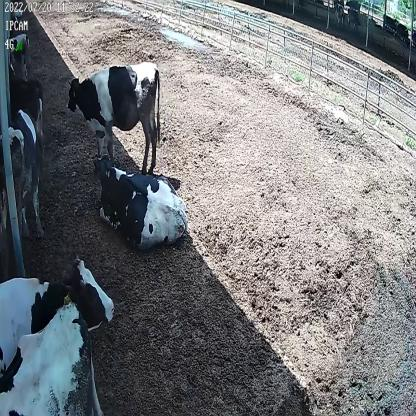cow: (1, 255, 116, 378), (66, 60, 162, 174), (92, 151, 190, 252)
